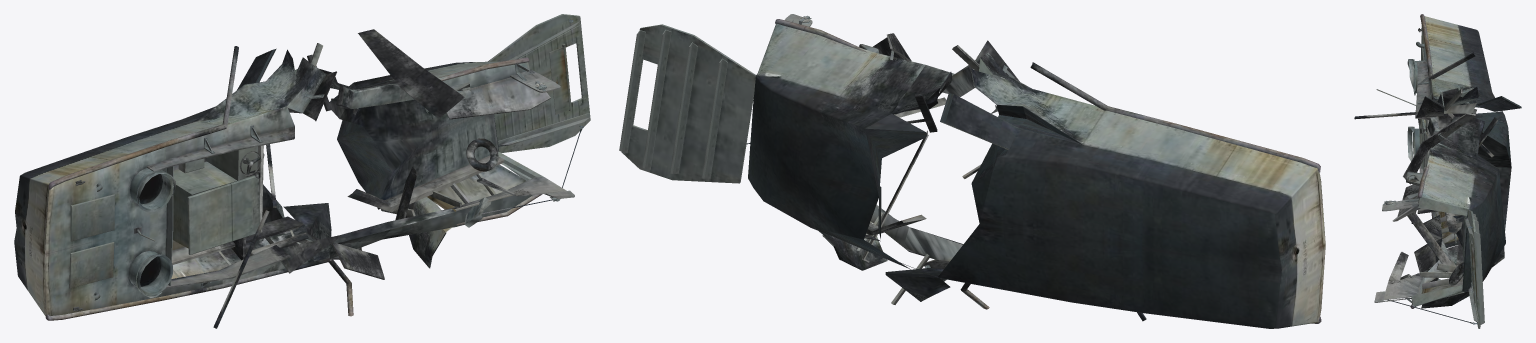
Rendered from vehicle_higgins_destroyed.glb.
3 renders of one model, left to right at view 1: azimuth 30°, elevation 25°; view 2: azimuth 150°, elevation 25°; view 3: azimuth 270°, elevation 25°, orthographic. The views are drawn at different scales.
Bounding box in the file's own units: 507 × 218 × 156.
Materials: 1 (1 with a texture image).
